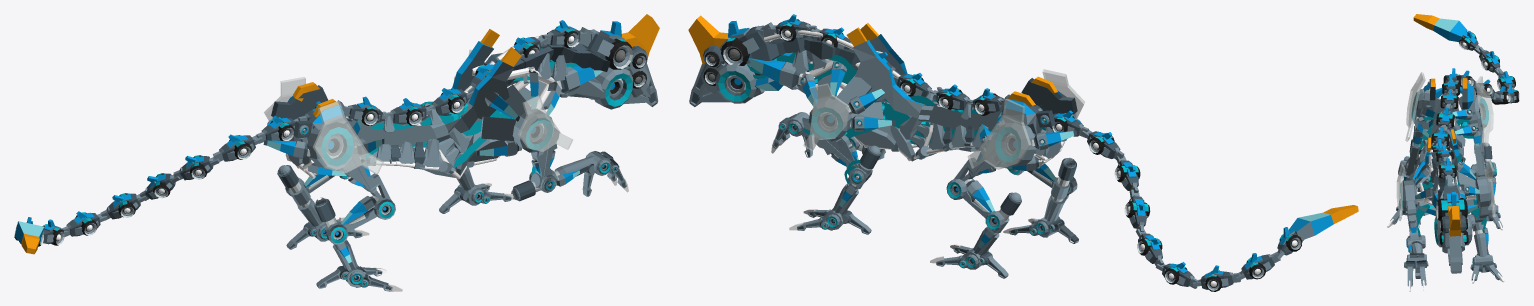
File: mech_aranha.glb
3 views of the same model, side by side, from view 1: azimuth 30°, elevation 25°; view 2: azimuth 150°, elevation 25°; view 3: azimuth 270°, elevation 25° (orthographic). The views are drawn at different scales.
Visible parts, largest first — view 1: Node; view 2: Node; view 3: Node.
Boxes of the visible parts, left/top/right/bottom form: Node: left=14, top=14, right=659, bottom=291; Node: left=688, top=14, right=1358, bottom=291; Node: left=1387, top=14, right=1519, bottom=291.
Bounding box in the file's own units: 2.06 × 0.5929 × 0.4862.
